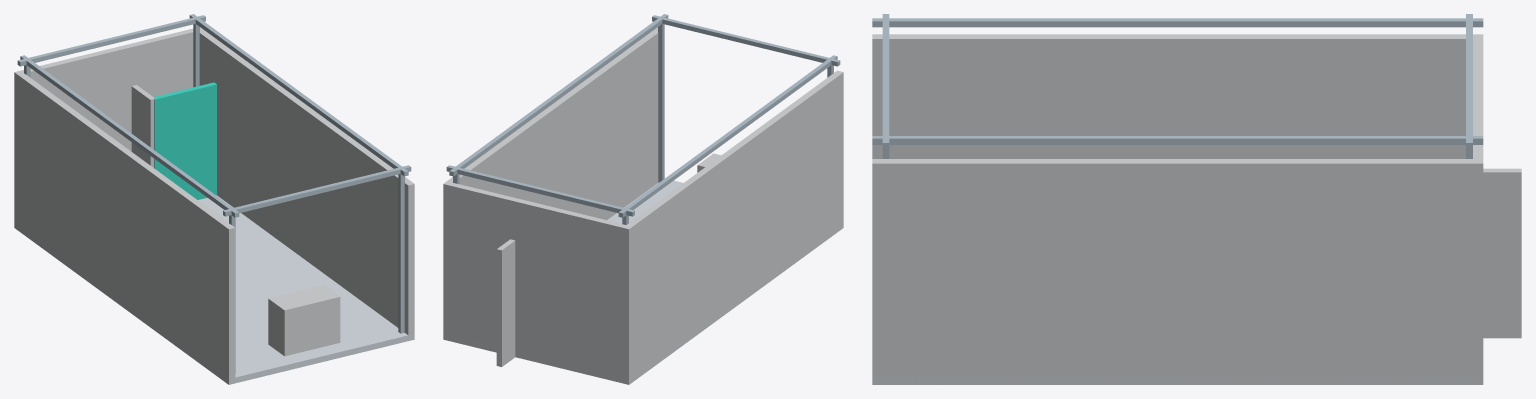
The picture shows the model from 3 angles, left to right: view 1: azimuth 30°, elevation 25°; view 2: azimuth 150°, elevation 25°; view 3: azimuth 270°, elevation 25°; orthographic projection. The views are drawn at different scales.
Visible parts, largest first — view 1: Exhibition Booth Concept; view 2: Exhibition Booth Concept; view 3: Exhibition Booth Concept.
Part boxes in pixels (x1,y1,x2,y2): Exhibition Booth Concept: (14, 14, 414, 384); Exhibition Booth Concept: (443, 14, 843, 384); Exhibition Booth Concept: (872, 14, 1521, 384).
Size of the model in its own units: 4 by 3.49 by 8.51.
